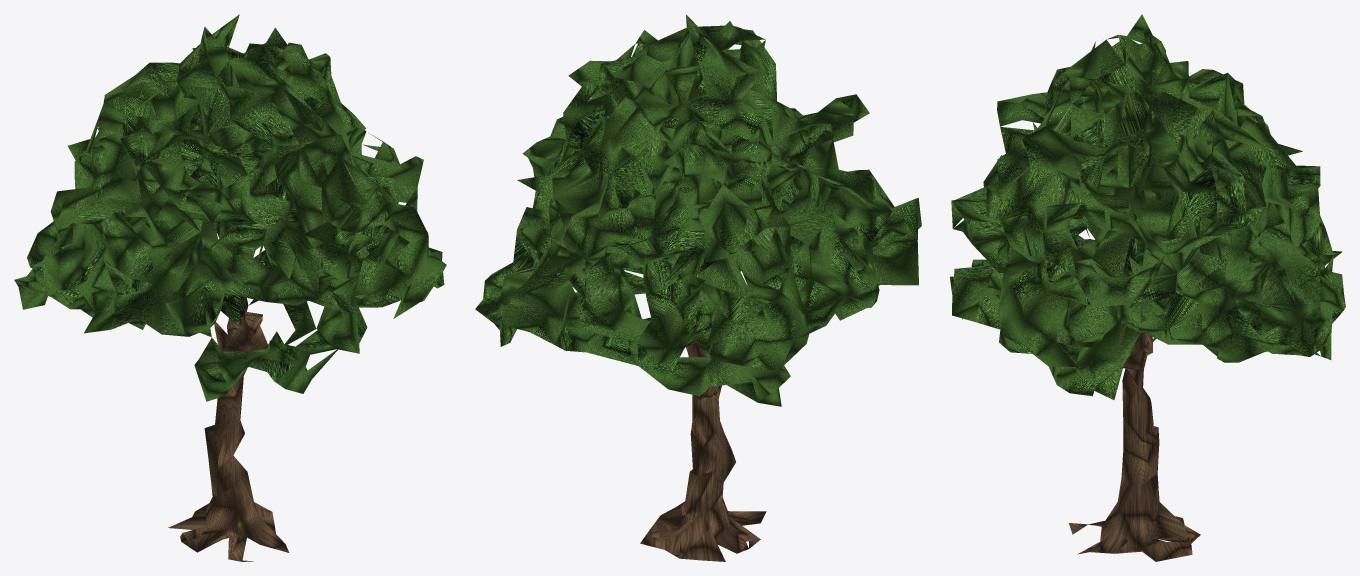
Rendered from arvore_mobile.glb.
3 renders of one model, left to right at view 1: azimuth 30°, elevation 25°; view 2: azimuth 150°, elevation 25°; view 3: azimuth 270°, elevation 25°, orthographic.
Parts seen in each view (by area): view 1: mesh_node; view 2: mesh_node; view 3: mesh_node.
Boxes of the visible parts, <box> form: mesh_node: <box>14,14,446,561</box>; mesh_node: <box>475,14,921,561</box>; mesh_node: <box>950,14,1345,561</box>.
Bounding box in the file's own units: 1.36 × 1.87 × 1.3.
Materials: 2 (2 with a texture image).
